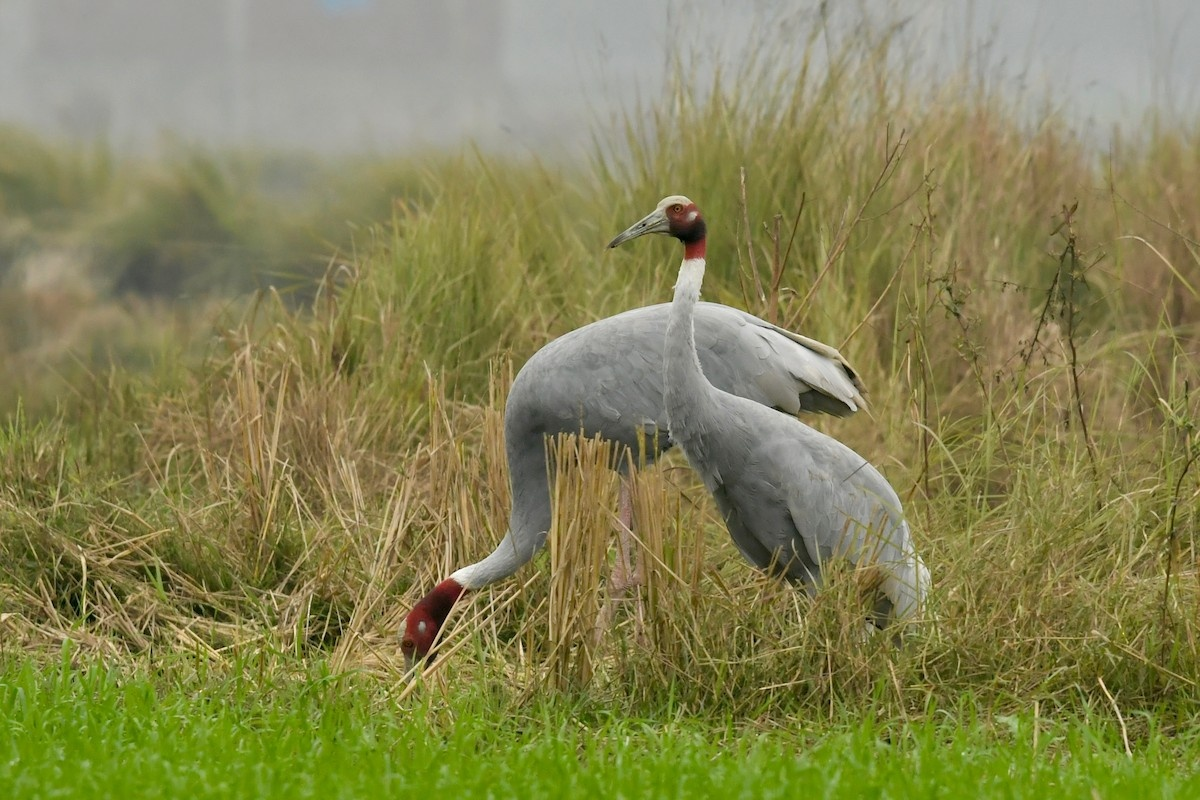crane: (604, 191, 959, 676), (394, 291, 661, 687)
